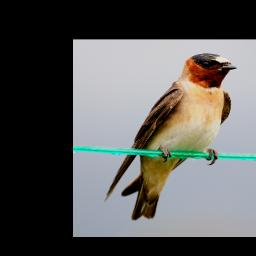Swallow: (104, 53, 238, 221)
